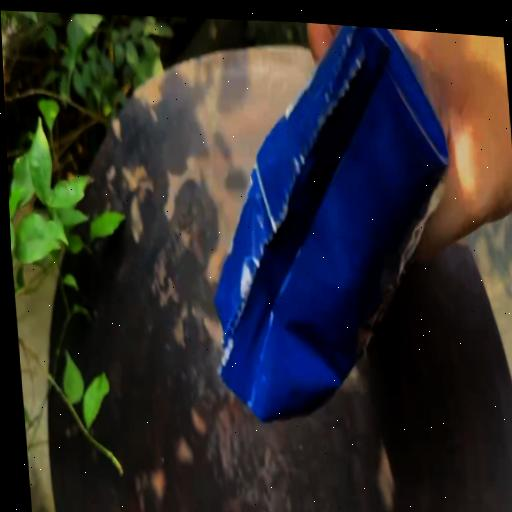cafe_hat: (214, 25, 447, 420)
